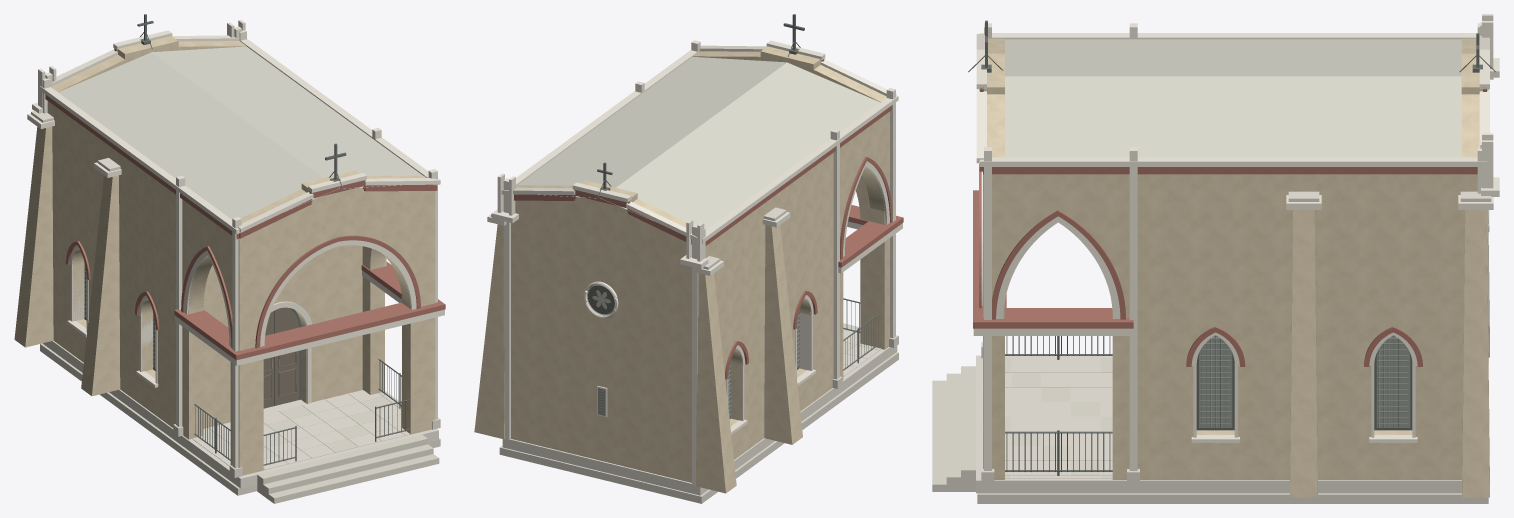
3 renders of one model, left to right at view 1: azimuth 30°, elevation 25°; view 2: azimuth 150°, elevation 25°; view 3: azimuth 270°, elevation 25°, orthographic. The views are drawn at different scales.
Visible parts, largest first — view 1: CreamChapel - left nave roughcast wall, CreamChapel - front open Gothic porch, CreamChapel - left pale low pitched roof, CreamChapel - right pale low pitched roof, CreamChapel - set back porch entrance wall, CreamChapel - porch limestone paving, CreamChapel - left open porch arcade, CreamChapel - left rear corner buttress tapered roughcast ma, CreamChapel - left middle buttress tapered roughcast mass, CreamChapel - three broad entrance steps, CreamChapel - right open porch arcade, CreamChapel - tall side ivory pilasters (+22 smaller); view 2: CreamChapel - rear cream gable, CreamChapel - left nave roughcast wall, CreamChapel - left pale low pitched roof, CreamChapel - right pale low pitched roof, CreamChapel - left rear corner buttress tapered roughcast ma, CreamChapel - front open Gothic porch, CreamChapel - left middle buttress tapered roughcast mass, CreamChapel - right rear corner buttress tapered roughcast m, CreamChapel - raised chapel plinth, CreamChapel - long pale eaves coping, CreamChapel - left open porch arcade, CreamChapel - tall side ivory pilasters (+16 smaller); view 3: CreamChapel - right nave roughcast wall, CreamChapel - right pale low pitched roof, CreamChapel - left pale low pitched roof, CreamChapel - right open porch arcade, CreamChapel - porch limestone paving, CreamChapel - long pale eaves coping, CreamChapel - raised chapel plinth, CreamChapel - right rear corner buttress tapered roughcast m, CreamChapel - right middle buttress tapered roughcast mass, CreamChapel - tall side ivory pilasters, CreamChapel - integral limestone foundation, CreamChapel - three broad entrance steps (+18 smaller).
Part boxes in pixels (x1,y1,x2,y2): CreamChapel - left nave roughcast wall: [47, 101, 174, 427]; CreamChapel - front open Gothic porch: [230, 170, 435, 474]; CreamChapel - left pale low pitched roof: [58, 52, 337, 231]; CreamChapel - right pale low pitched roof: [152, 46, 422, 188]; CreamChapel - set back porch entrance wall: [173, 193, 362, 428]; CreamChapel - porch limestone paving: [192, 390, 410, 470]; CreamChapel - left open porch arcade: [182, 199, 253, 475]; CreamChapel - left rear corner buttress tapered roughcast ma: [14, 126, 53, 347]; CreamChapel - left middle buttress tapered roughcast mass: [81, 175, 120, 396]; CreamChapel - three broad entrance steps: [257, 434, 439, 503]; CreamChapel - right open porch arcade: [362, 191, 435, 431]; CreamChapel - tall side ivory pilasters: [42, 30, 437, 468]; CreamChapel - rear cream gable: [511, 180, 708, 482]; CreamChapel - left nave roughcast wall: [685, 157, 827, 482]; CreamChapel - left pale low pitched roof: [602, 62, 880, 229]; CreamChapel - right pale low pitched roof: [517, 56, 786, 198]; CreamChapel - left rear corner buttress tapered roughcast ma: [696, 273, 736, 493]; CreamChapel - front open Gothic porch: [693, 46, 889, 349]; CreamChapel - left middle buttress tapered roughcast mass: [764, 225, 802, 444]; CreamChapel - right rear corner buttress tapered roughcast m: [474, 224, 504, 439]; CreamChapel - raised chapel plinth: [502, 329, 897, 495]; CreamChapel - long pale eaves coping: [503, 50, 898, 243]; CreamChapel - left open porch arcade: [840, 112, 889, 380]; CreamChapel - tall side ivory pilasters: [635, 40, 895, 379]; CreamChapel - right nave roughcast wall: [1137, 174, 1477, 479]; CreamChapel - right pale low pitched roof: [979, 76, 1487, 163]; CreamChapel - left pale low pitched roof: [1005, 39, 1461, 76]; CreamChapel - right open porch arcade: [983, 174, 1129, 479]; CreamChapel - porch limestone paving: [1005, 358, 1112, 478]; CreamChapel - long pale eaves coping: [979, 33, 1487, 166]; CreamChapel - raised chapel plinth: [976, 355, 1461, 493]; CreamChapel - right rear corner buttress tapered roughcast m: [1462, 210, 1489, 497]; CreamChapel - right middle buttress tapered roughcast mass: [1290, 210, 1317, 497]; CreamChapel - tall side ivory pilasters: [984, 23, 1481, 470]; CreamChapel - integral limestone foundation: [977, 493, 1488, 503]; CreamChapel - three broad entrance steps: [932, 366, 975, 491].
Bounding box in the file's own units: 8.12 × 9.96 × 12.23.
Materials: 15 (1 with a texture image).
